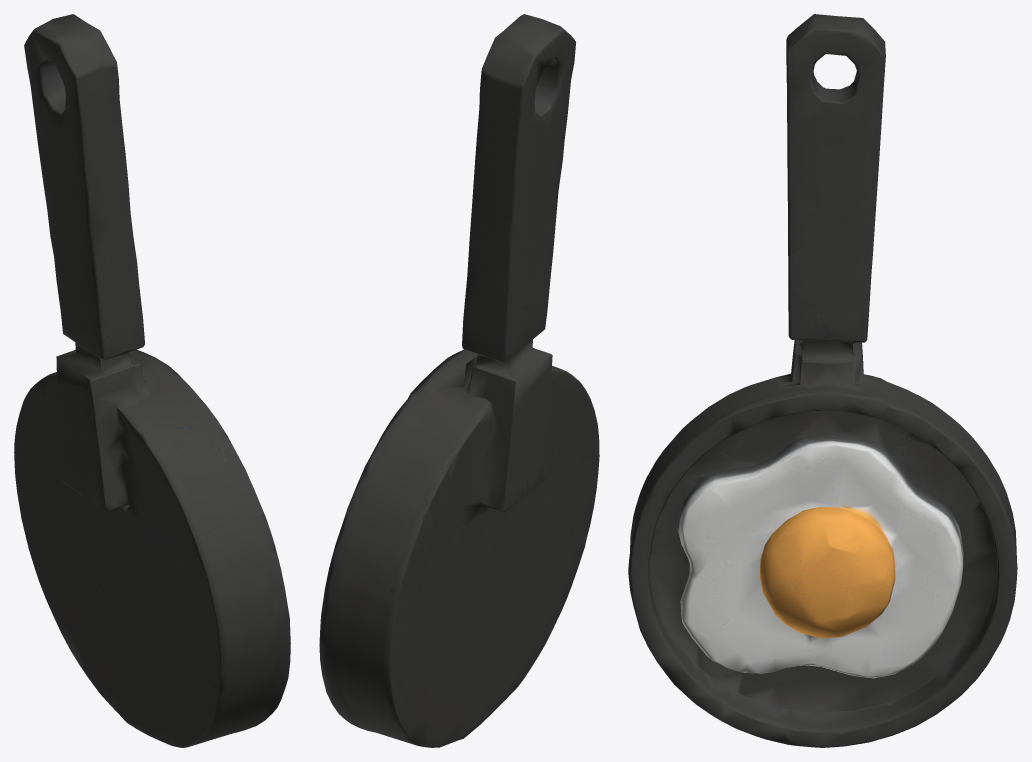
The model's file is frying-pan.glb.
The picture shows the model from 3 angles, left to right: view 1: azimuth 30°, elevation 25°; view 2: azimuth 150°, elevation 25°; view 3: azimuth 270°, elevation 25°; orthographic projection. The views are drawn at different scales.
Visible parts, largest first — view 1: tripo_node_04fba579-114e-4d46-93ed-ac846ced0bbe; view 2: tripo_node_04fba579-114e-4d46-93ed-ac846ced0bbe; view 3: tripo_node_04fba579-114e-4d46-93ed-ac846ced0bbe.
Boxes of the visible parts, x1,y1,x2,y2 form: tripo_node_04fba579-114e-4d46-93ed-ac846ced0bbe: (14, 14, 290, 747); tripo_node_04fba579-114e-4d46-93ed-ac846ced0bbe: (319, 14, 599, 747); tripo_node_04fba579-114e-4d46-93ed-ac846ced0bbe: (628, 14, 1017, 747).
Size of the model in its own units: 0.2509 by 1 by 0.5239.
Materials: 1 (1 with a texture image).
